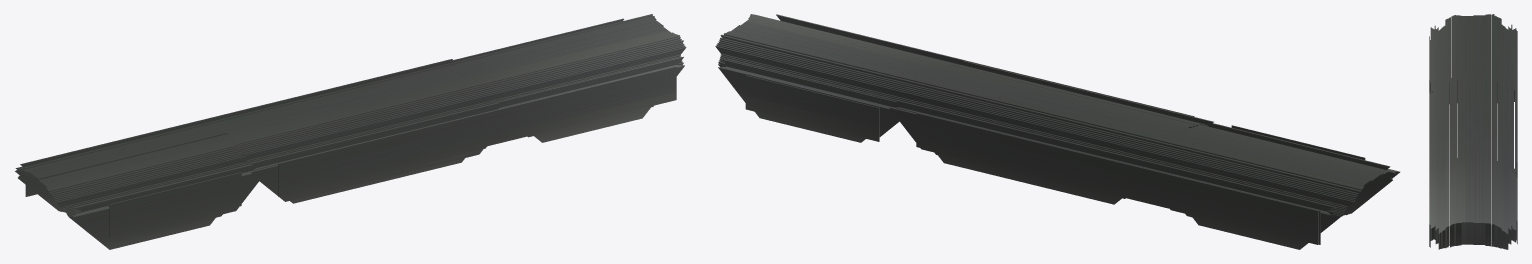
The picture shows the model from 3 angles, left to right: view 1: azimuth 30°, elevation 25°; view 2: azimuth 150°, elevation 25°; view 3: azimuth 270°, elevation 25°; orthographic projection. The views are drawn at different scales.
Parts seen in each view (by area): view 1: 4_上铁轭; view 2: 4_上铁轭; view 3: 4_上铁轭.
Part boxes in pixels (x1,y1,x2,y2): 4_上铁轭: (15, 14, 686, 249); 4_上铁轭: (715, 14, 1400, 249); 4_上铁轭: (1429, 14, 1517, 249).
Size of the model in its own units: 176 by 16.89 by 31.17.
Materials: 1 (1 with a texture image).
